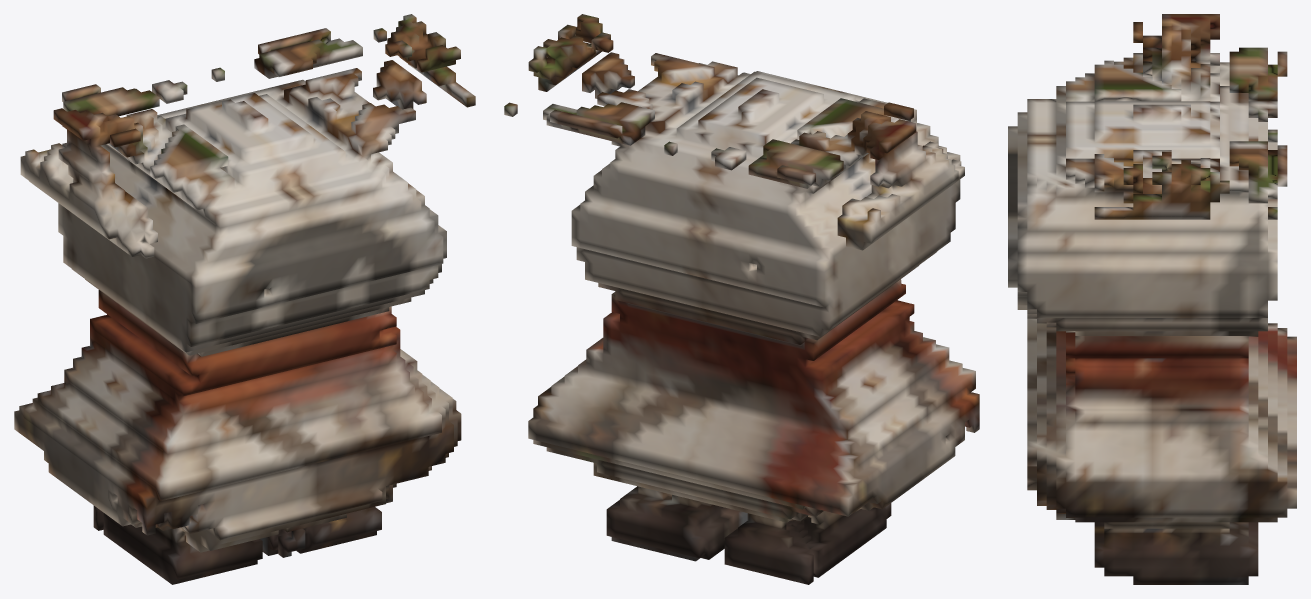
The model's file is sheet2_L8.glb.
3 renders of one model, left to right at view 1: azimuth 30°, elevation 25°; view 2: azimuth 150°, elevation 25°; view 3: azimuth 270°, elevation 25°, orthographic. The views are drawn at different scales.
Parts seen in each view (by area): view 1: BPT_sheet2_L8; view 2: BPT_sheet2_L8; view 3: BPT_sheet2_L8.
Boxes of the visible parts, box(x1,y1,x2,y2) form: BPT_sheet2_L8: box(14, 14, 475, 584); BPT_sheet2_L8: box(504, 14, 979, 584); BPT_sheet2_L8: box(1008, 14, 1296, 584).
Size of the model in its own units: 1.65 by 2 by 1.15.
